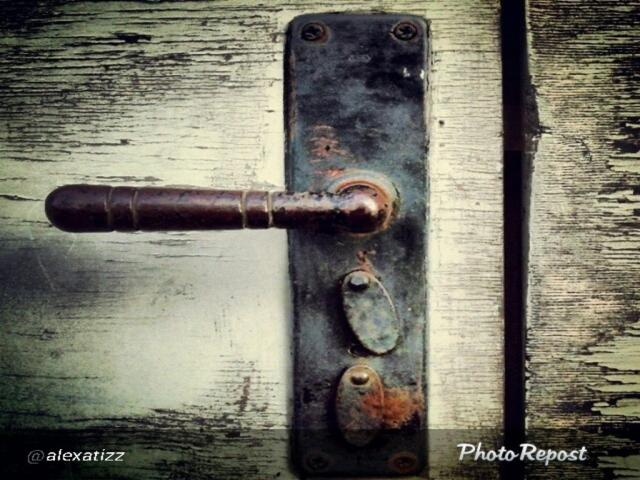Door-handle: (44, 10, 431, 480)
